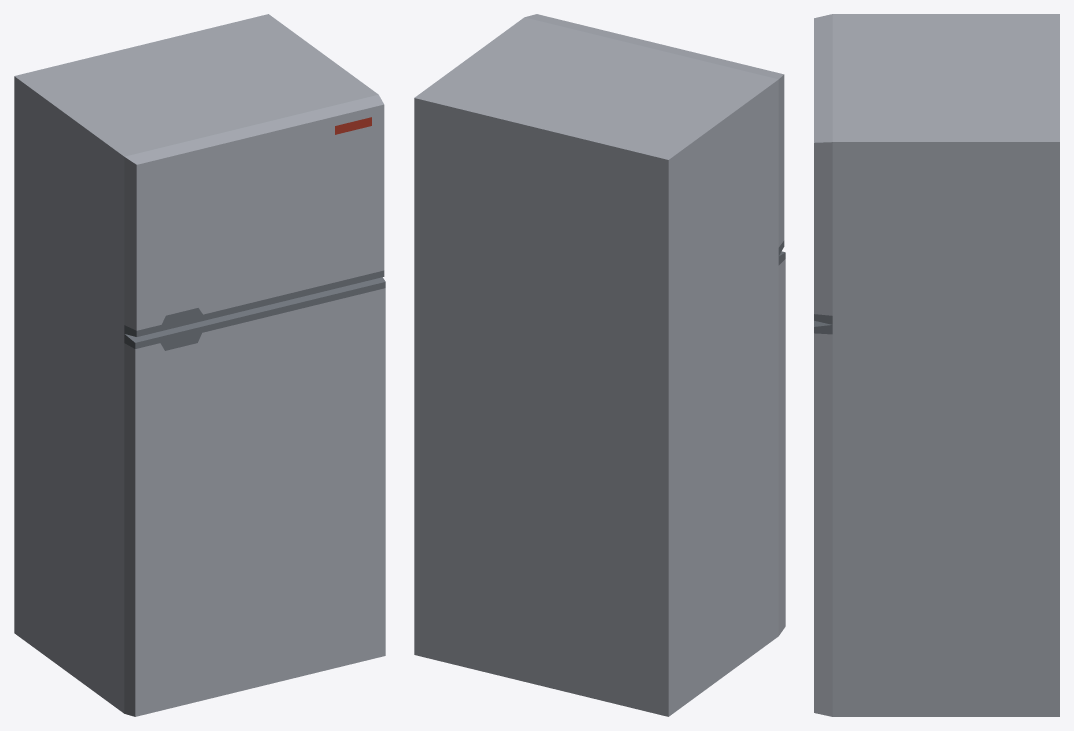
The model's file is SM_Prop_Kitchen_Fridge_01.fbx.
3 renders of one model, left to right at view 1: azimuth 30°, elevation 25°; view 2: azimuth 150°, elevation 25°; view 3: azimuth 270°, elevation 25°, orthographic. The views are drawn at different scales.
Visible parts, largest first — view 1: SM_Prop_Kitchen_Fridge_01; view 2: SM_Prop_Kitchen_Fridge_01; view 3: SM_Prop_Kitchen_Fridge_01.
Boxes of the visible parts, x1,y1,x2,y2 form: SM_Prop_Kitchen_Fridge_01: [14, 14, 385, 716]; SM_Prop_Kitchen_Fridge_01: [414, 14, 785, 716]; SM_Prop_Kitchen_Fridge_01: [814, 14, 1059, 716].
Bounding box in the file's own units: 100 × 209 × 81.13.
